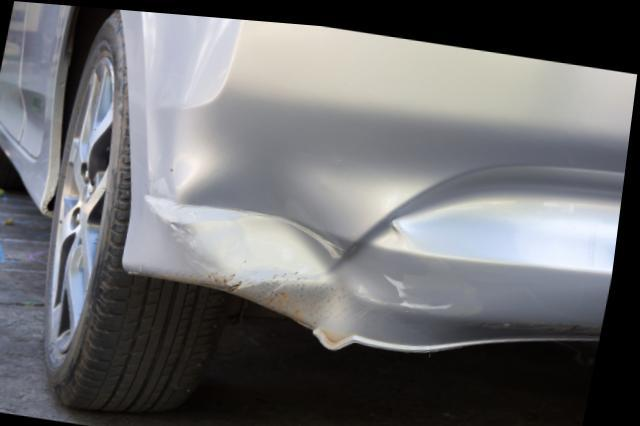dent: (135, 84, 486, 343)
